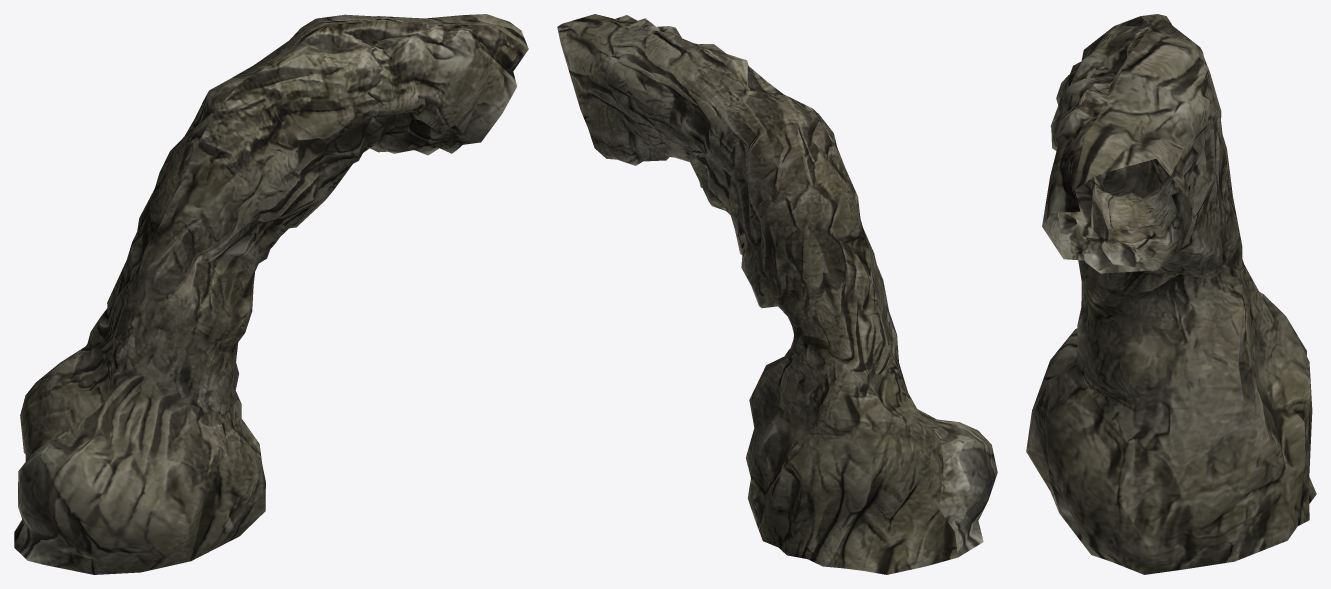
File: MEP_Cliff_18.fbx
3 views of the same model, side by side, from view 1: azimuth 30°, elevation 25°; view 2: azimuth 150°, elevation 25°; view 3: azimuth 270°, elevation 25° (orthographic). The views are drawn at different scales.
Visible parts, largest first — view 1: MEP_Desert_Cliff_18; view 2: MEP_Desert_Cliff_18; view 3: MEP_Desert_Cliff_18.
Part boxes in pixels (box(x1,y1,x2,y2)): MEP_Desert_Cliff_18: box(14, 14, 528, 574); MEP_Desert_Cliff_18: box(557, 14, 997, 574); MEP_Desert_Cliff_18: box(1026, 14, 1316, 574).
Size of what is drawn, in the model's own units: 1875 by 1790 by 784.
1 material, 1 textured.
